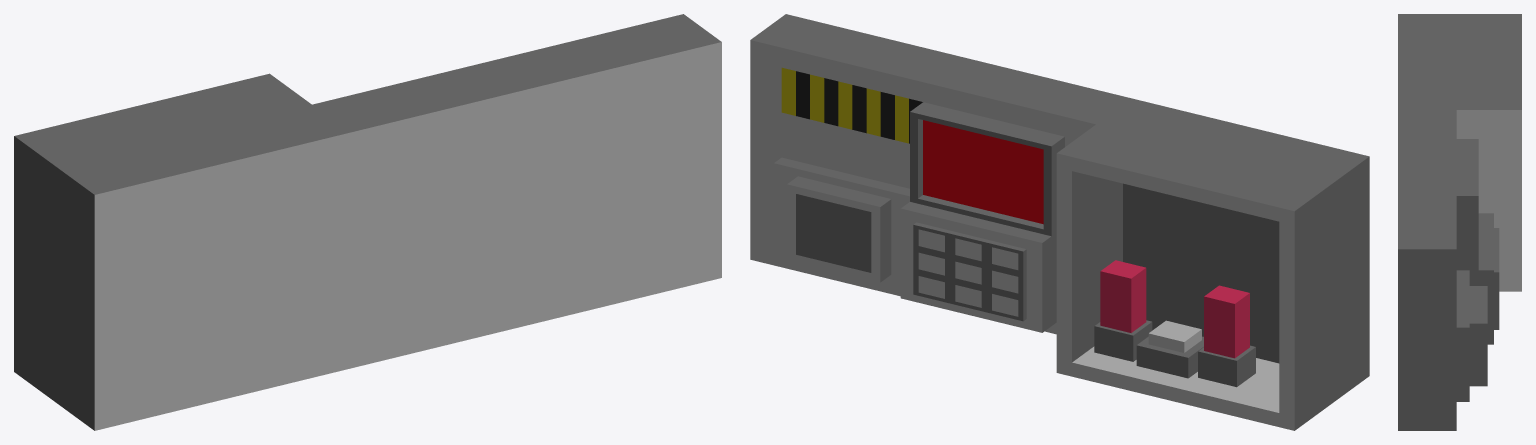
Rendered from DNAReader.fbx.
The picture shows the model from 3 angles, left to right: view 1: azimuth 30°, elevation 25°; view 2: azimuth 150°, elevation 25°; view 3: azimuth 270°, elevation 25°; orthographic projection. The views are drawn at different scales.
Parts seen in each view (by area): view 1: DNA_Reader; view 2: DNA_Reader; view 3: DNA_Reader.
Part boxes in pixels (bbox=[...]): DNA_Reader: bbox=[14, 14, 721, 430]; DNA_Reader: bbox=[750, 14, 1369, 430]; DNA_Reader: bbox=[1398, 14, 1521, 430].
Bounding box in the file's own units: 338 × 121 × 75.11.
